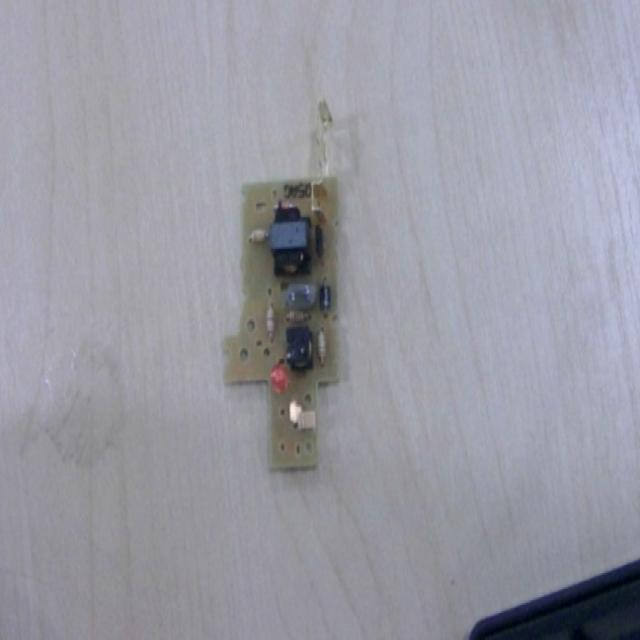019: (286, 325, 314, 370)
223: (284, 281, 318, 308)
DIODE: (319, 276, 331, 318)
LED: (270, 367, 291, 396)
R1: (265, 303, 277, 342)
R2: (285, 309, 313, 324)
R3: (316, 326, 328, 370)
R4: (247, 224, 270, 247)
TCE: (270, 205, 312, 276)
TRANSISTOR: (314, 223, 326, 266)
